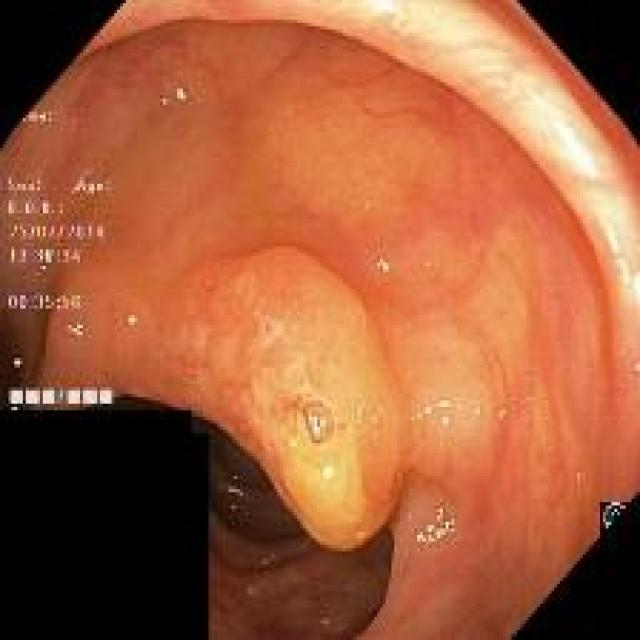Polyps: (126, 247, 406, 551)
